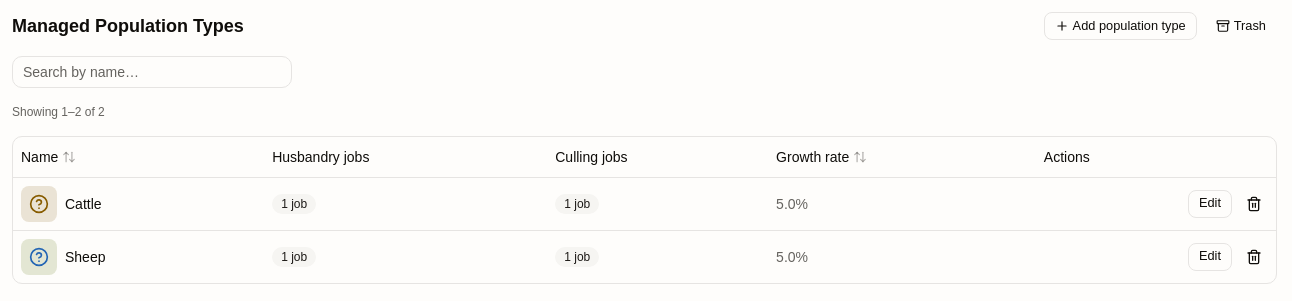
Scenario: ManagedPopulationsConfigPanel › narrows results via the search input
Expected: the text "Cattle" is shown, [65, 194, 102, 214]
Expected: the text "Sheep" is shown, [65, 246, 106, 266]
Type "Cat" into the field named "Search population types by name" at (152, 72), box [12, 56, 292, 88]
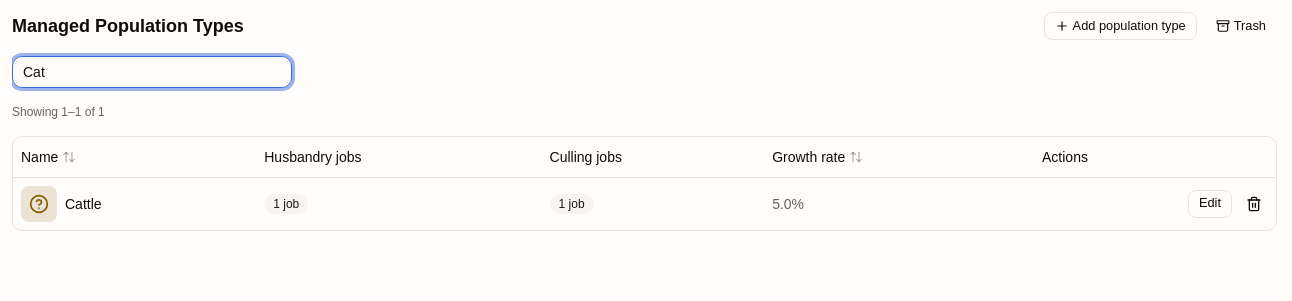
Expected: the text "Cattle" is shown, [65, 194, 102, 214]
Now the text "Sheep" is gone
